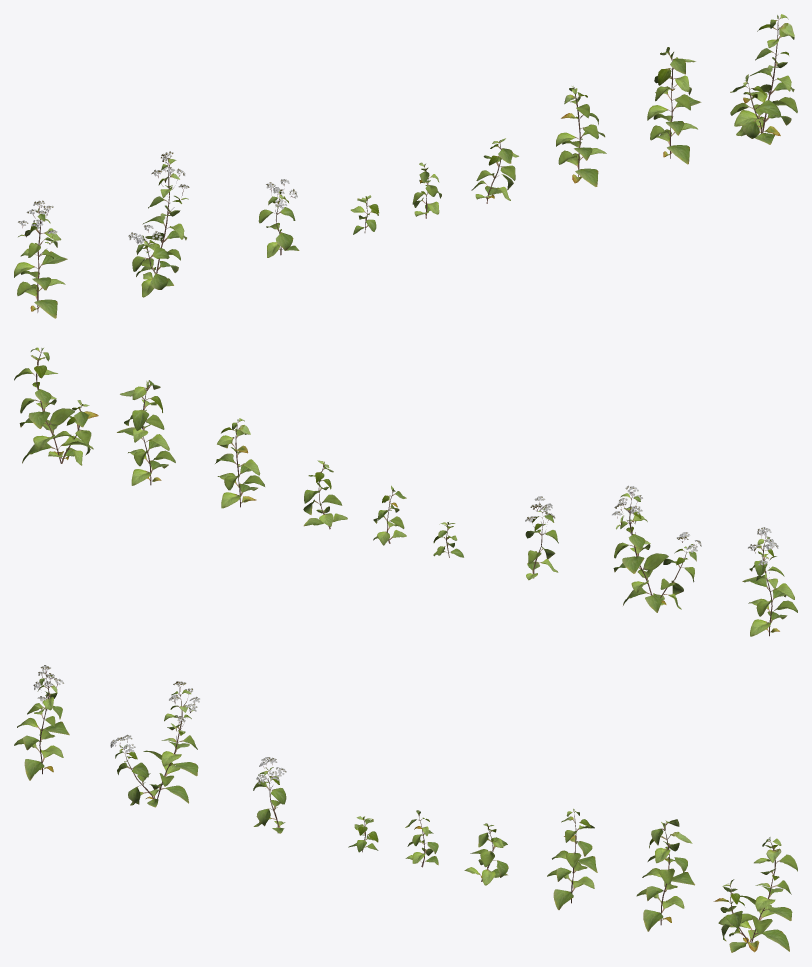
The model's file is shrub_01.glb.
The picture shows the model from 3 angles, top to bottom: view 1: azimuth 30°, elevation 25°; view 2: azimuth 150°, elevation 25°; view 3: azimuth 330°, elevation 25°; orthographic projection. The views are drawn at different scales.
Visible parts, largest first — view 1: shrub_01_a; view 2: shrub_01_a; view 3: shrub_01_a.
Boxes of the visible parts, bbox=[...] form: shrub_01_a: bbox=[14, 14, 797, 318]; shrub_01_a: bbox=[14, 347, 797, 636]; shrub_01_a: bbox=[14, 665, 797, 952].
Size of the model in its own units: 2.59 by 0.3956 by 0.2185.
Materials: 1 (1 with a texture image).
